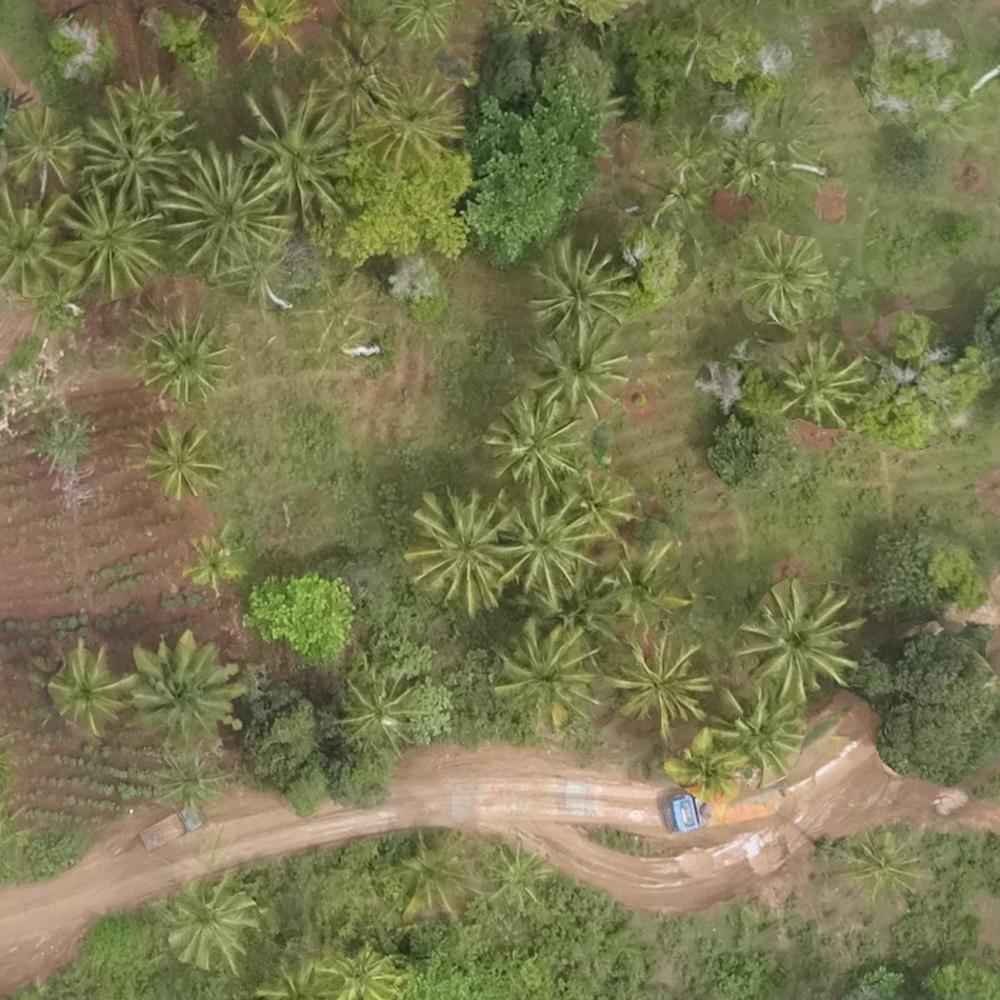Palm: (163, 151, 277, 271), (245, 85, 355, 208), (745, 582, 861, 696), (407, 491, 510, 608), (132, 641, 238, 745), (63, 183, 161, 289), (493, 623, 598, 721), (501, 492, 595, 600), (608, 638, 712, 734), (490, 394, 583, 492), (359, 71, 459, 162), (709, 685, 803, 780), (84, 104, 178, 196), (533, 242, 630, 329), (2, 193, 84, 295), (138, 312, 231, 400), (596, 540, 684, 630), (529, 327, 621, 412), (165, 879, 254, 966), (741, 226, 825, 316), (784, 339, 867, 426), (49, 648, 129, 733), (336, 665, 416, 749), (4, 109, 81, 190), (144, 425, 220, 500), (668, 732, 742, 809), (187, 538, 242, 594)
